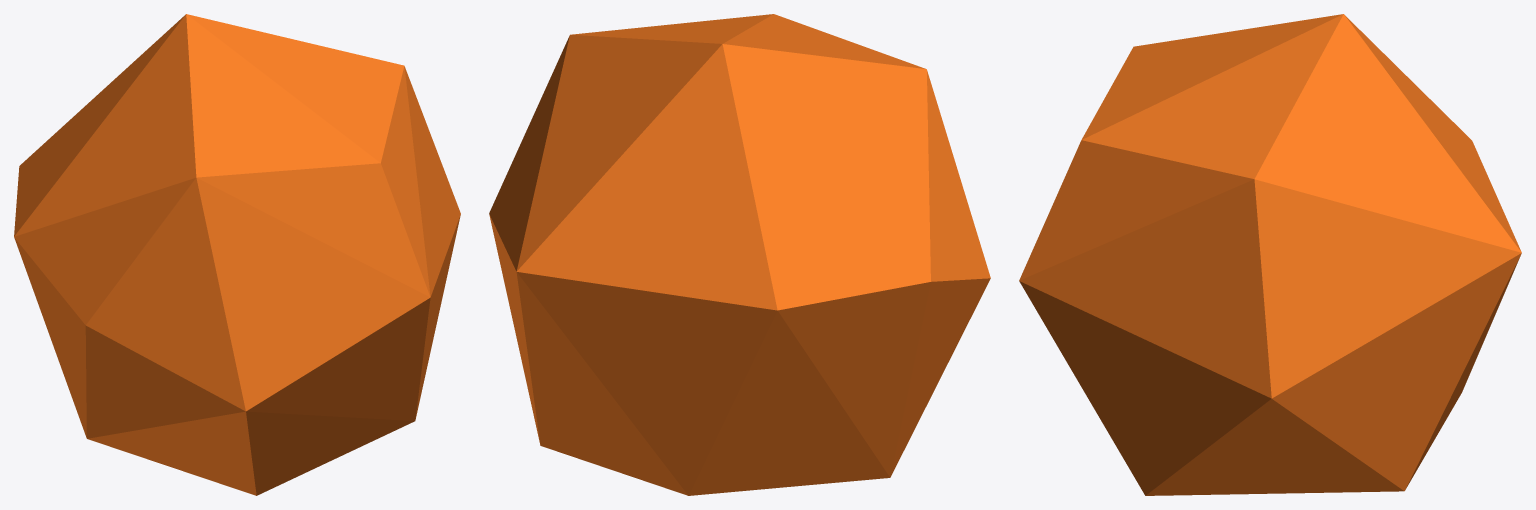
Rendered from shrub_orange.glb.
3 views of the same model, side by side, from view 1: azimuth 30°, elevation 25°; view 2: azimuth 150°, elevation 25°; view 3: azimuth 270°, elevation 25° (orthographic). The views are drawn at different scales.
Parts seen in each view (by area): view 1: shrub_orange; view 2: shrub_orange; view 3: shrub_orange.
Boxes of the visible parts, box(x1,y1,x2,y2) form: shrub_orange: box(14, 14, 460, 495); shrub_orange: box(489, 14, 990, 495); shrub_orange: box(1019, 14, 1521, 495).
Bounding box in the file's own units: 1.5 × 1.48 × 1.43.
Materials: 1 (1 with a texture image).
